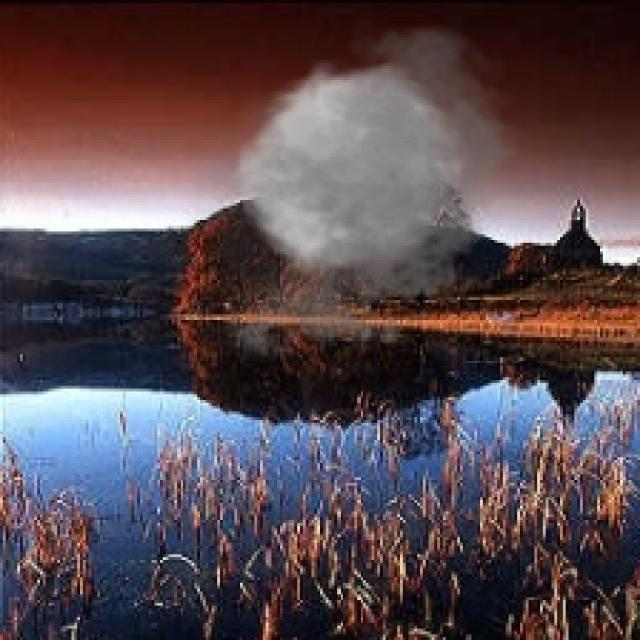smoke: (172, 11, 532, 368)
